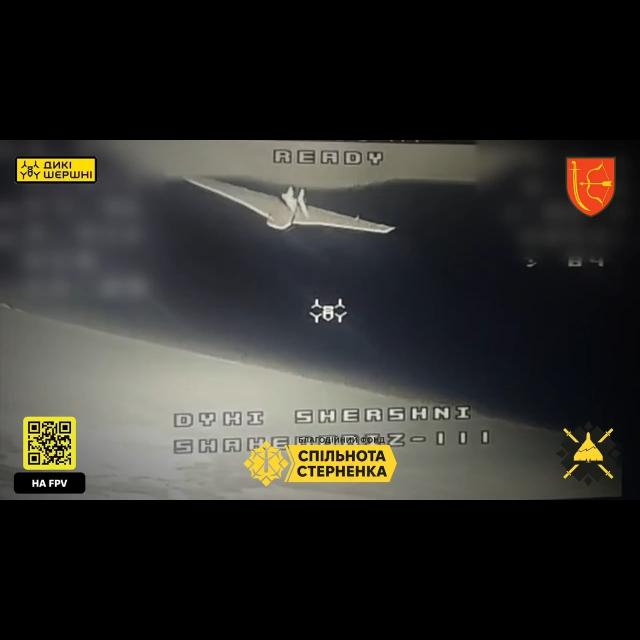Gerbera: (183, 178, 395, 235)
